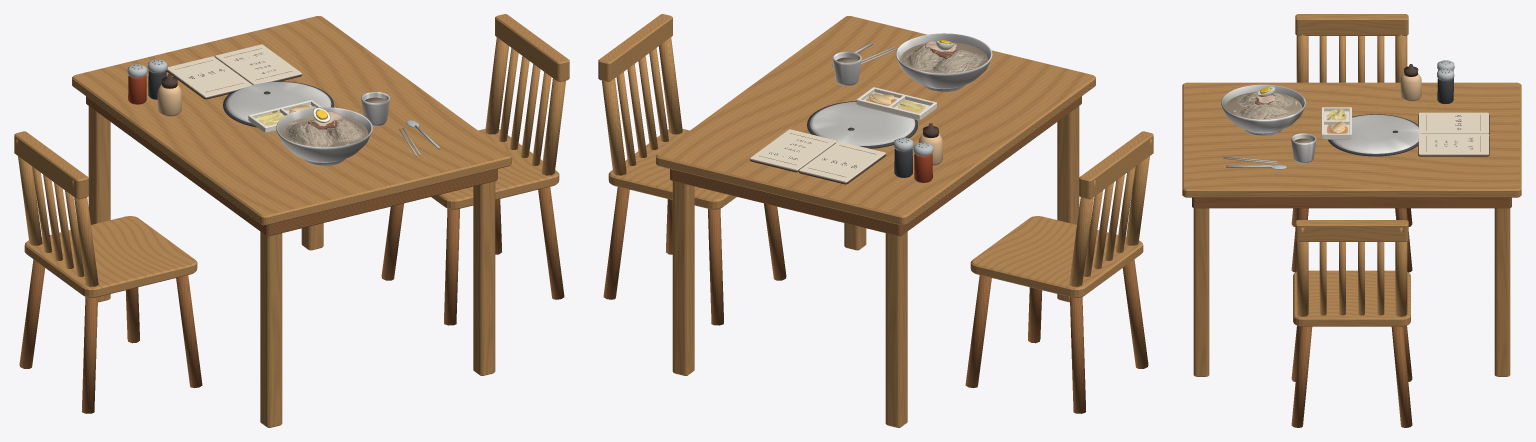
Rendered from gallery.glb.
3 renders of one model, left to right at view 1: azimuth 30°, elevation 25°; view 2: azimuth 150°, elevation 25°; view 3: azimuth 270°, elevation 25°, orthographic. The views are drawn at different scales.
Parts seen in each view (by area): view 1: MyeonokTable, MyeonokSteel; view 2: MyeonokTable, MyeonokSteel; view 3: MyeonokTable, MyeonokSteel.
Boxes of the visible parts, box(x1,y1,x2,y2) form: MyeonokTable: box(14, 14, 569, 427); MyeonokSteel: box(127, 59, 440, 165); MyeonokTable: box(598, 14, 1153, 427); MyeonokSteel: box(810, 33, 992, 156); MyeonokTable: box(1182, 14, 1521, 427); MyeonokSteel: box(1221, 60, 1454, 169).
Bounding box in the file's own units: 1.83 × 0.9362 × 1.24.
2 materials, 1 textured.
